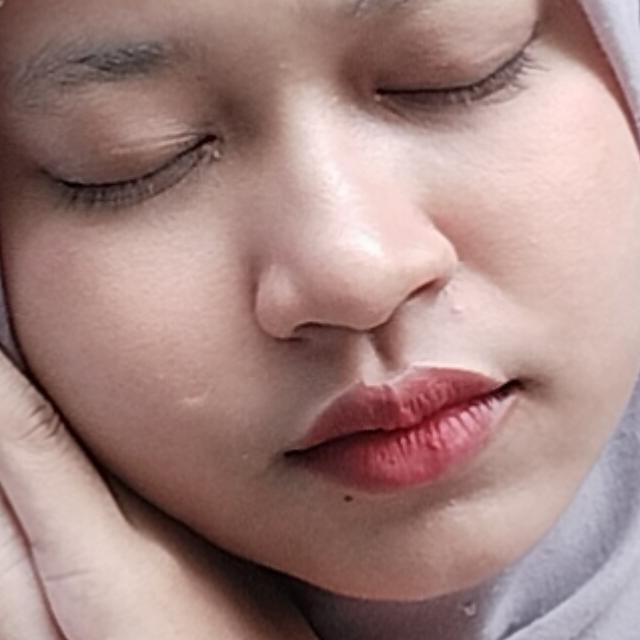tidur: (0, 8, 546, 640)
